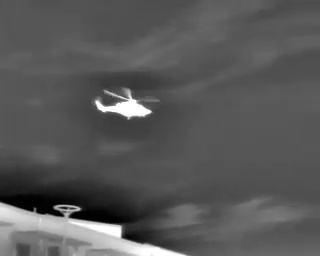HELICOPTER: (91, 82, 164, 128)
